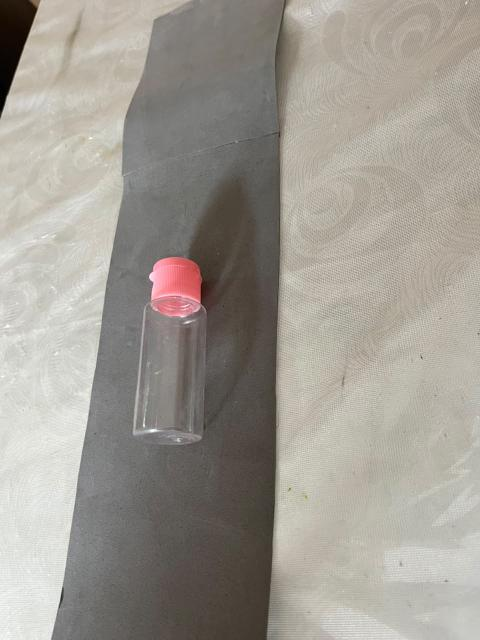PET: (50, 174, 335, 521)
